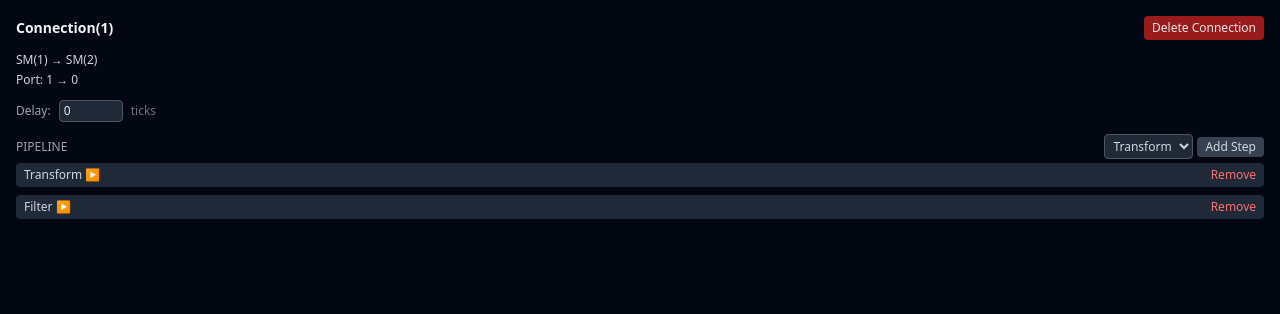
ConnectionEditorPanel › clicking a pipeline step expands its detail editor
This screenshot has width=1280, height=314.
Click the button with aria-label "toggle step 1". click: [47, 207]
box: [24,199,71,215]
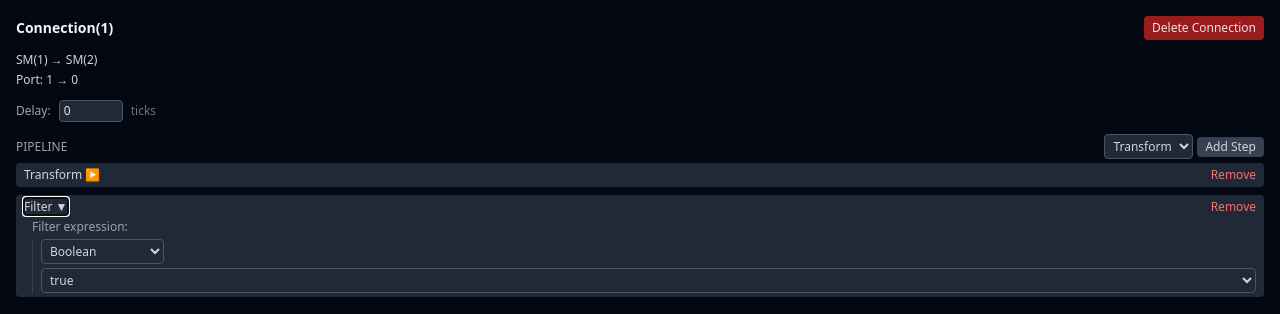
Expected: the text "Filter expression:" is shown, [32,218,128,235]
